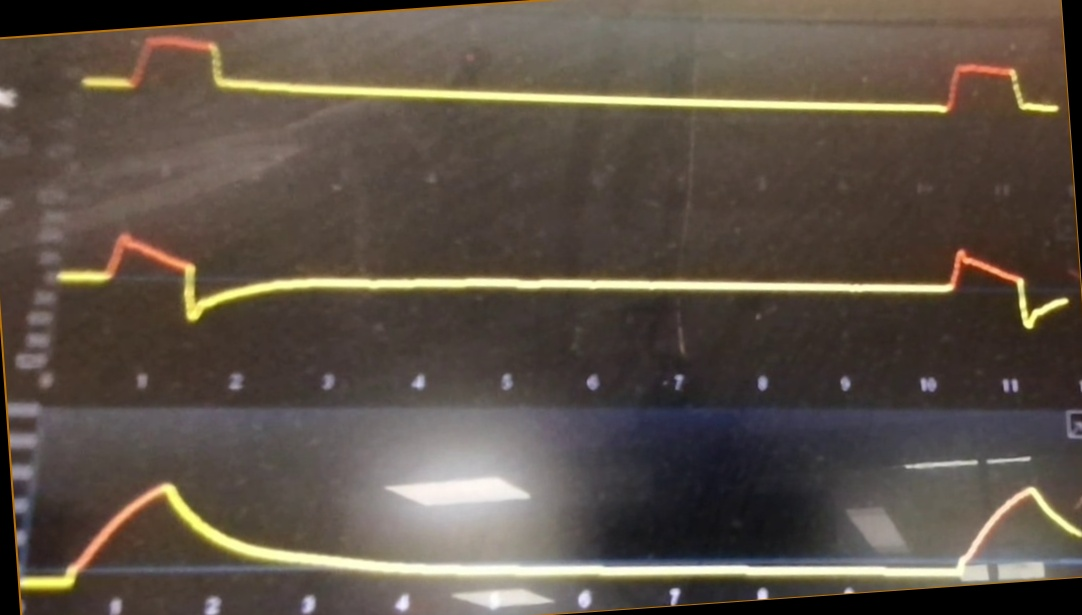Normal Flow: (54, 204, 1069, 336)
Normal Volume: (23, 456, 1082, 595)
